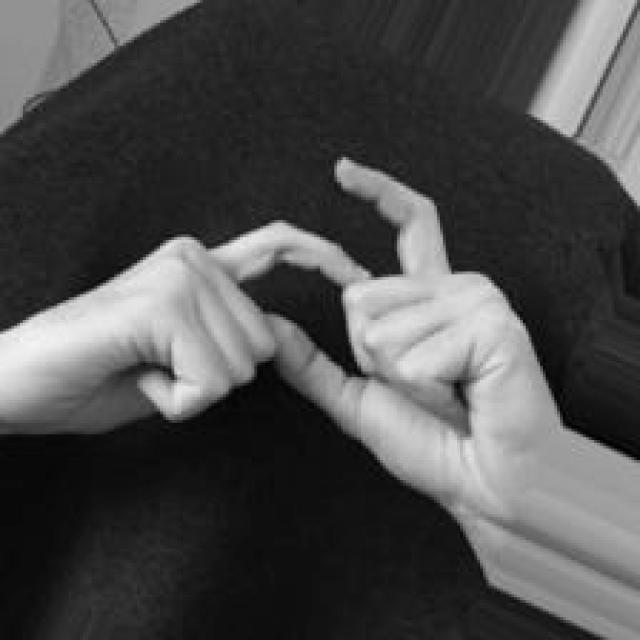G: (5, 155, 562, 487)
